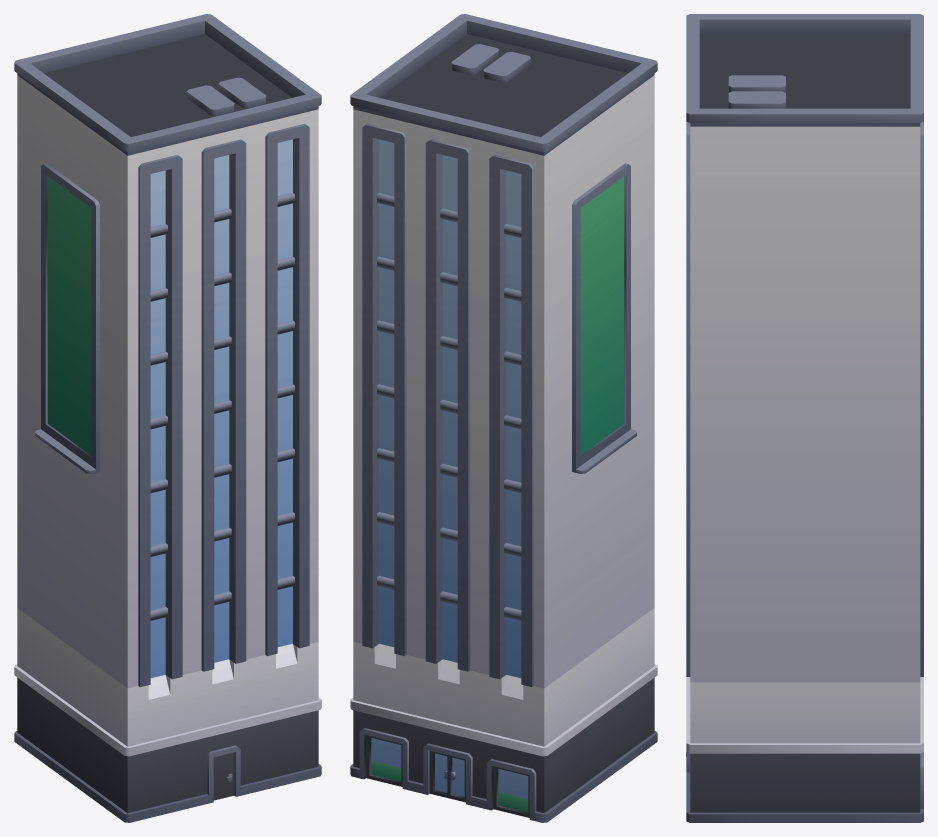
The model's file is building-skyscraper-e.glb.
3 renders of one model, left to right at view 1: azimuth 30°, elevation 25°; view 2: azimuth 150°, elevation 25°; view 3: azimuth 270°, elevation 25°, orthographic. The views are drawn at different scales.
Parts seen in each view (by area): view 1: building-skyscraper-e; view 2: building-skyscraper-e; view 3: building-skyscraper-e.
Boxes of the visible parts, box(x1,y1,x2,y2) form: building-skyscraper-e: box(14, 14, 321, 822); building-skyscraper-e: box(350, 14, 657, 822); building-skyscraper-e: box(686, 14, 923, 822).
Bounding box in the file's own units: 1.3 × 4.08 × 1.24.
Materials: 1 (1 with a texture image).
